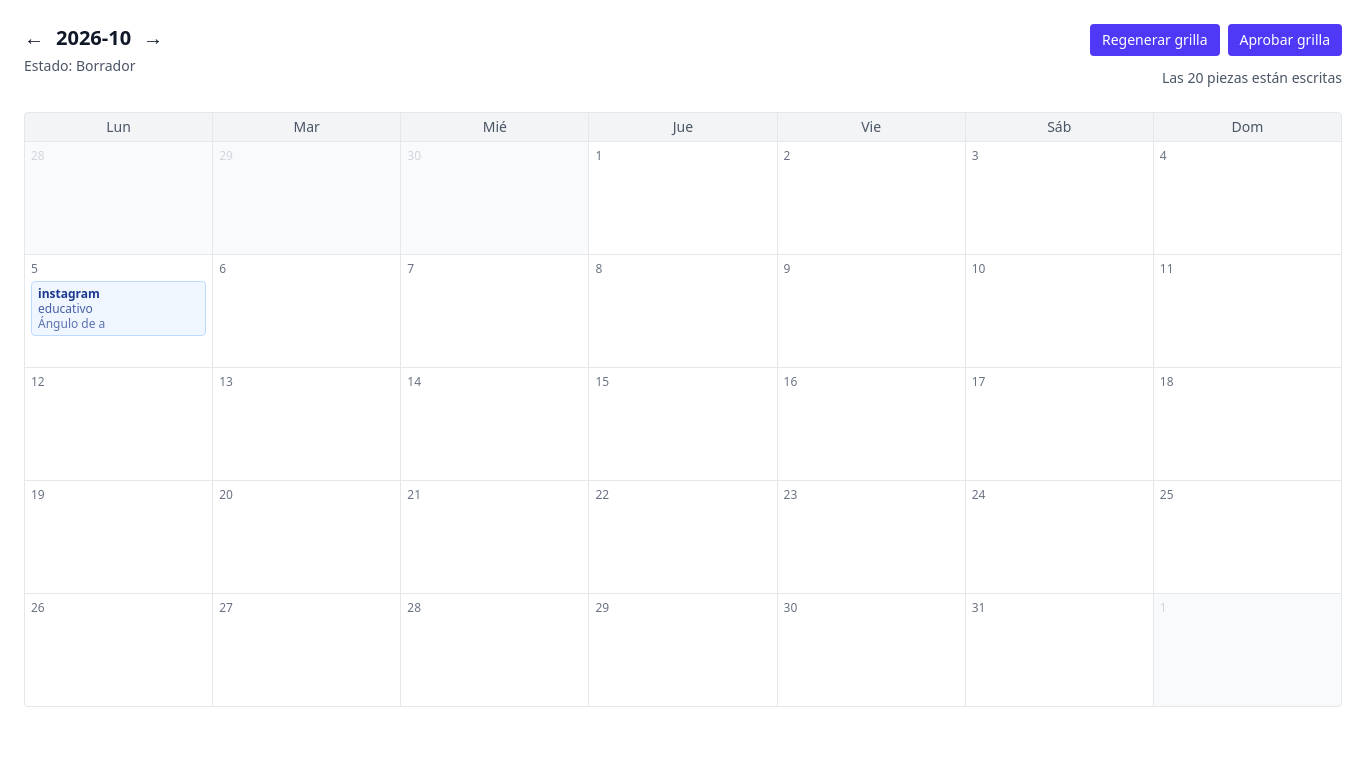
Test case: la advertencia de regenerar la grilla › con piezas ya escritas, la advertencia dice que se borran y que se paga otra vez
Click the button "Regenerar grilla". click: {"x": 1155, "y": 40}
box: 1090,24 -> 1220,56
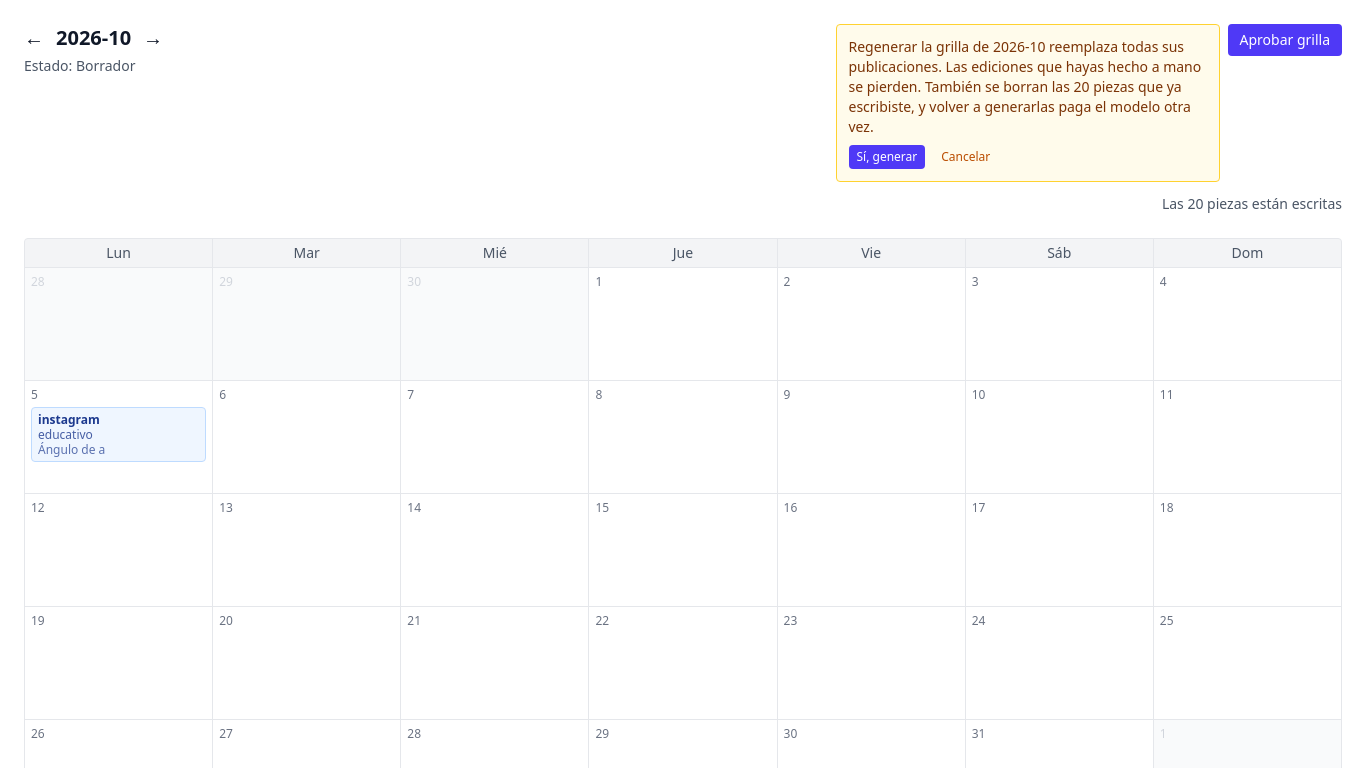
Result: the text "También se borran las 20 piezas que ya escribiste, y volver a generarlas paga el modelo otra vez." is shown at 848,37 -> 1201,136
